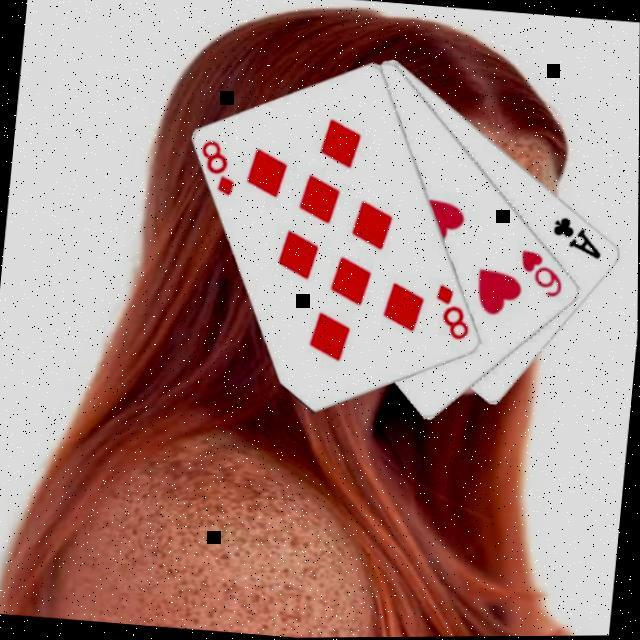6H: (514, 245, 568, 301)
8D: (428, 280, 476, 342), (193, 136, 240, 198)
AC: (546, 211, 606, 262)
